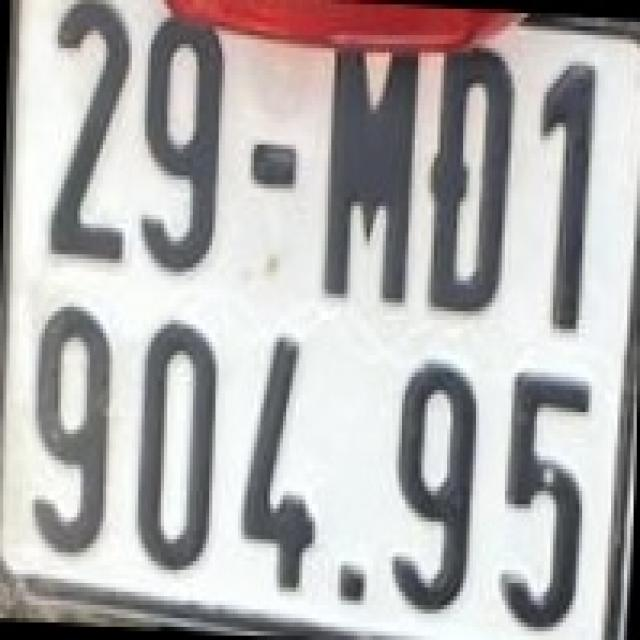0: (132, 316, 222, 574)
1: (534, 57, 601, 329)
2: (48, 0, 132, 272)
4: (238, 329, 322, 596)
5: (498, 364, 592, 631)
9: (389, 355, 479, 614), (138, 9, 225, 276), (26, 298, 112, 557)
D: (428, 44, 518, 316)
M: (316, 35, 419, 303)
